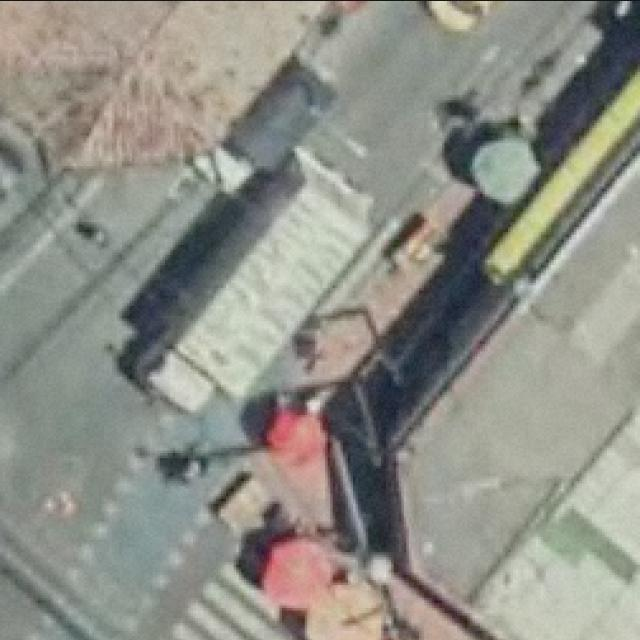vendedor_ambulante: (466, 130, 544, 207), (294, 576, 386, 640), (257, 536, 329, 608), (264, 408, 326, 473)
